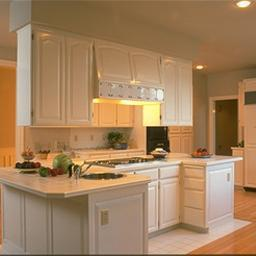Electrodomestico: (88, 154, 157, 174)
